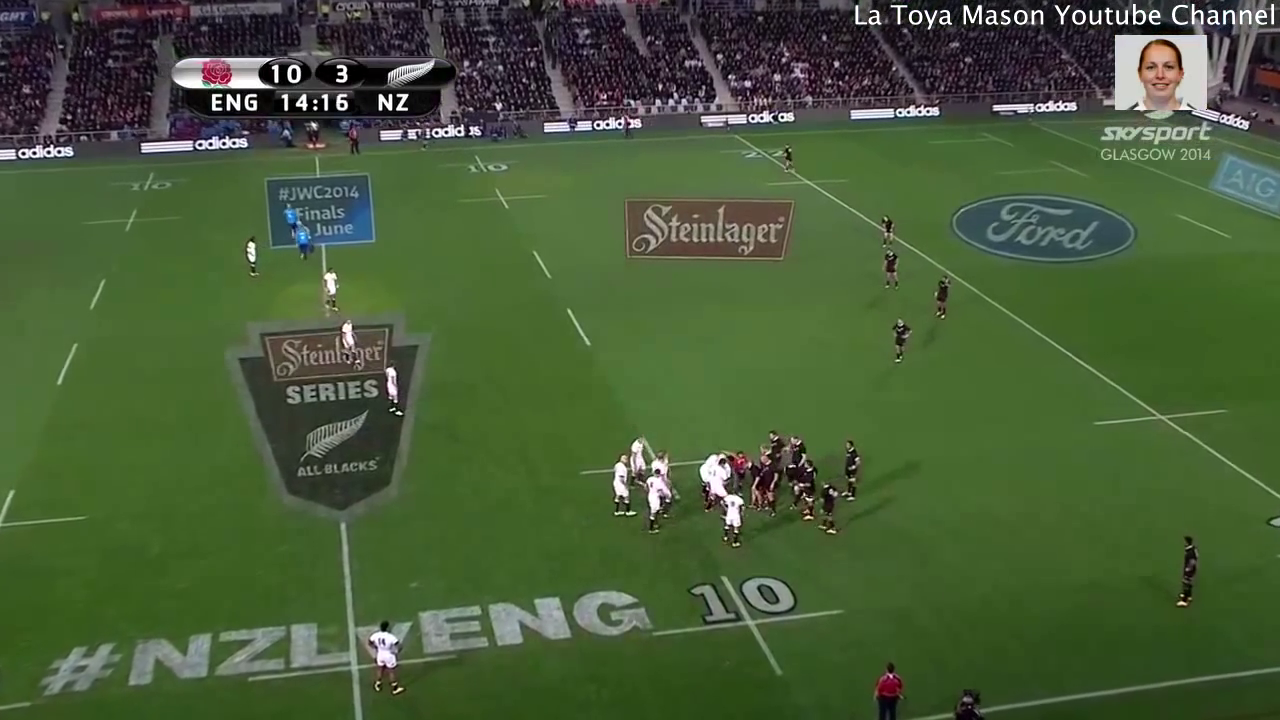10_metre: (650, 572, 845, 684), (1, 487, 91, 532), (79, 206, 182, 236), (102, 172, 189, 196), (444, 153, 529, 177), (453, 188, 549, 208)
player: (367, 620, 405, 696), (1174, 533, 1199, 610), (641, 470, 672, 532), (606, 452, 633, 516), (817, 481, 843, 538), (380, 362, 405, 420), (338, 316, 364, 369), (759, 455, 781, 517), (721, 491, 745, 547), (842, 439, 863, 503), (624, 430, 648, 483), (319, 264, 343, 315), (706, 459, 728, 512), (801, 457, 818, 521), (889, 318, 909, 365), (932, 274, 951, 323), (242, 233, 263, 277), (292, 220, 312, 264), (881, 248, 901, 292), (742, 461, 757, 510), (876, 212, 896, 246), (649, 448, 670, 480), (765, 429, 786, 455), (780, 139, 793, 174), (787, 433, 803, 456), (283, 203, 297, 228)
